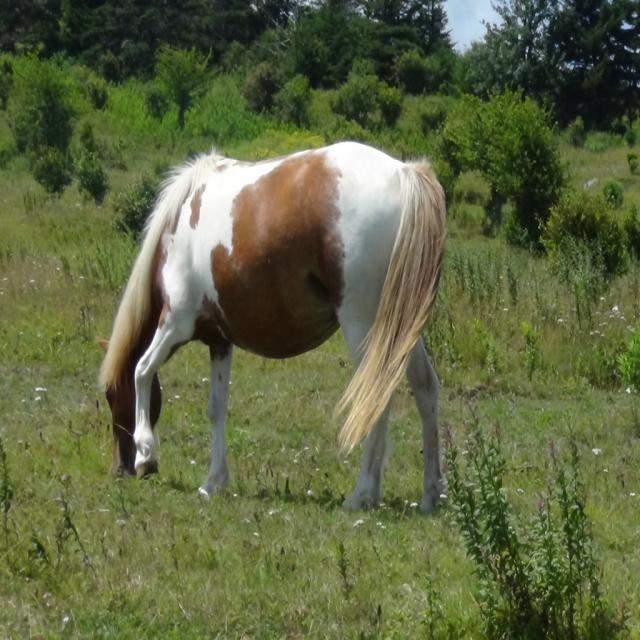Horse: (97, 138, 450, 516)
